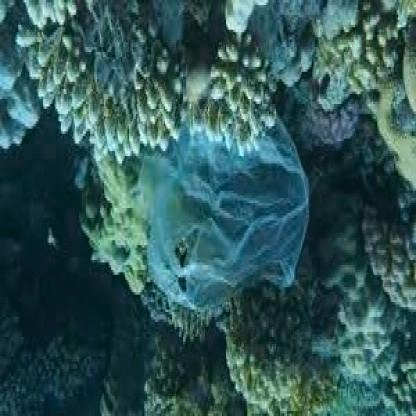pbag: (132, 86, 313, 314)
